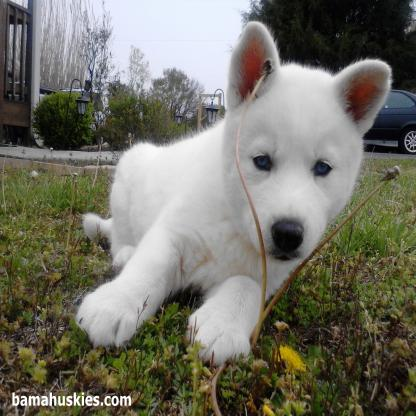dog: (71, 20, 390, 369)
